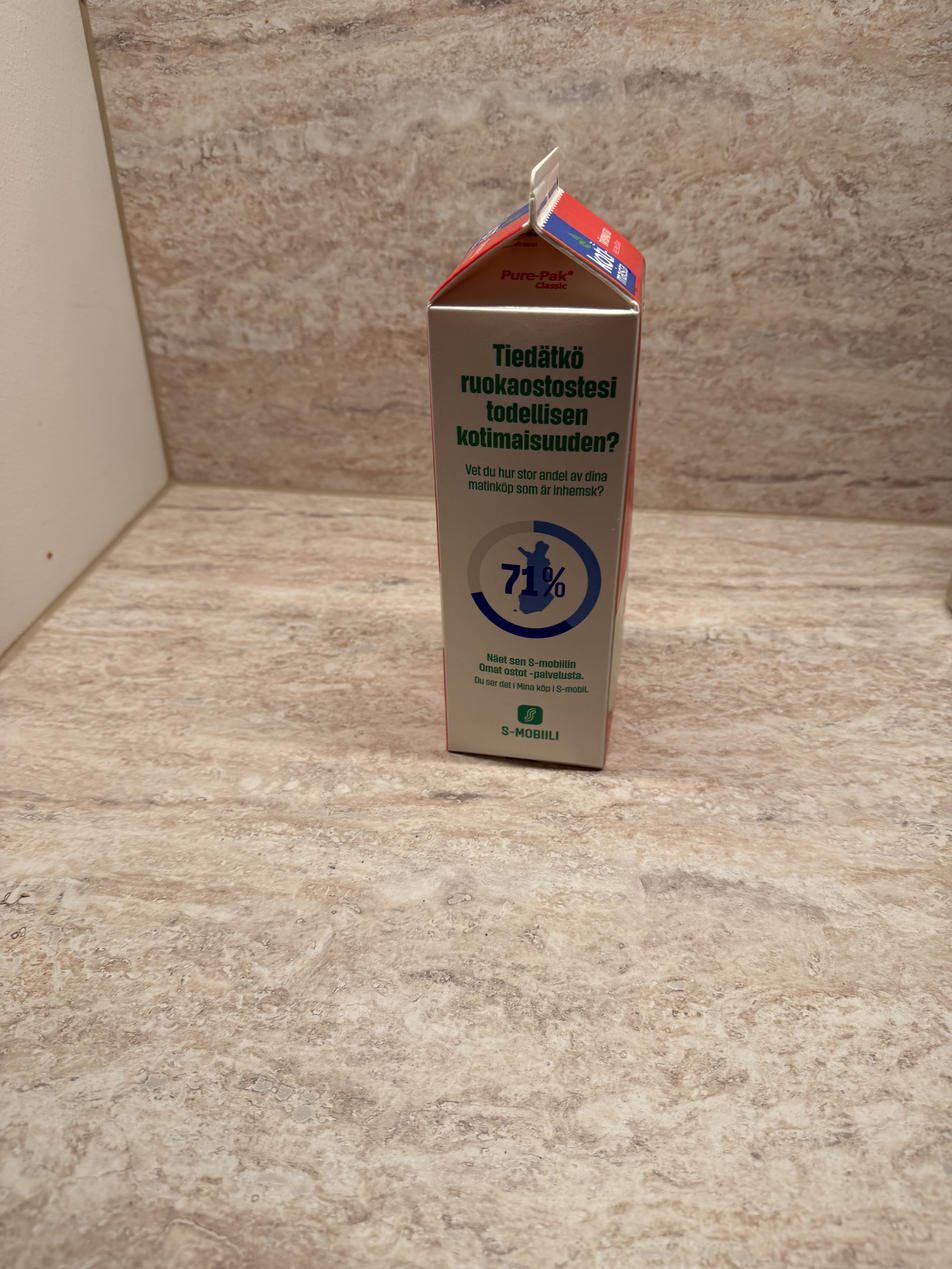Dryckeskartong: (399, 141, 652, 777)
